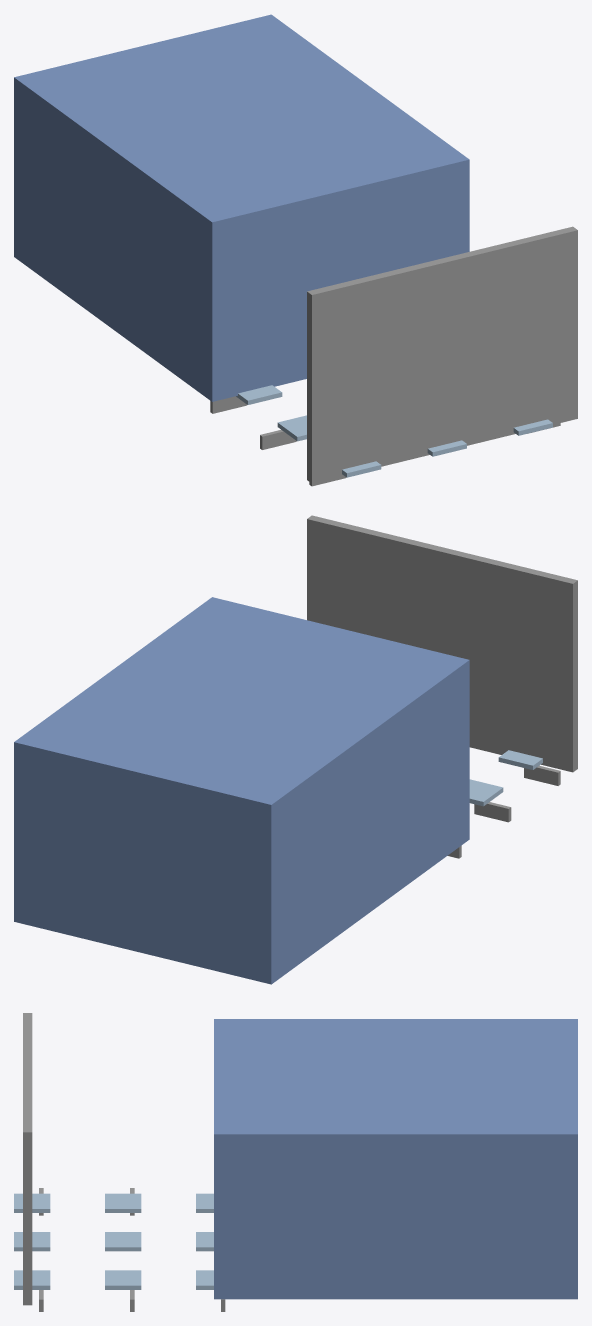
The model's file is apartment.glb.
3 views of the same model, one above another, from view 1: azimuth 30°, elevation 25°; view 2: azimuth 150°, elevation 25°; view 3: azimuth 270°, elevation 25° (orthographic). The views are drawn at different scales.
Visible parts, largest first — view 1: geometry_0, geometry_1, geometry_2, geometry_4; view 2: geometry_0, geometry_1, geometry_2, geometry_4; view 3: geometry_0, geometry_2, geometry_1.
Part boxes in pixels (bbox=[...]): geometry_0: bbox=[14, 14, 469, 401]; geometry_1: bbox=[307, 226, 577, 483]; geometry_2: bbox=[236, 385, 552, 477]; geometry_4: bbox=[210, 396, 560, 486]; geometry_0: bbox=[14, 597, 469, 984]; geometry_1: bbox=[307, 515, 577, 772]; geometry_2: bbox=[469, 750, 542, 806]; geometry_4: bbox=[447, 765, 560, 858]; geometry_0: bbox=[214, 1019, 577, 1299]; geometry_2: bbox=[14, 1193, 213, 1289]; geometry_1: bbox=[23, 1013, 32, 1305].
Bounding box in the file's own units: 6.2 × 4.45 × 12.4.
